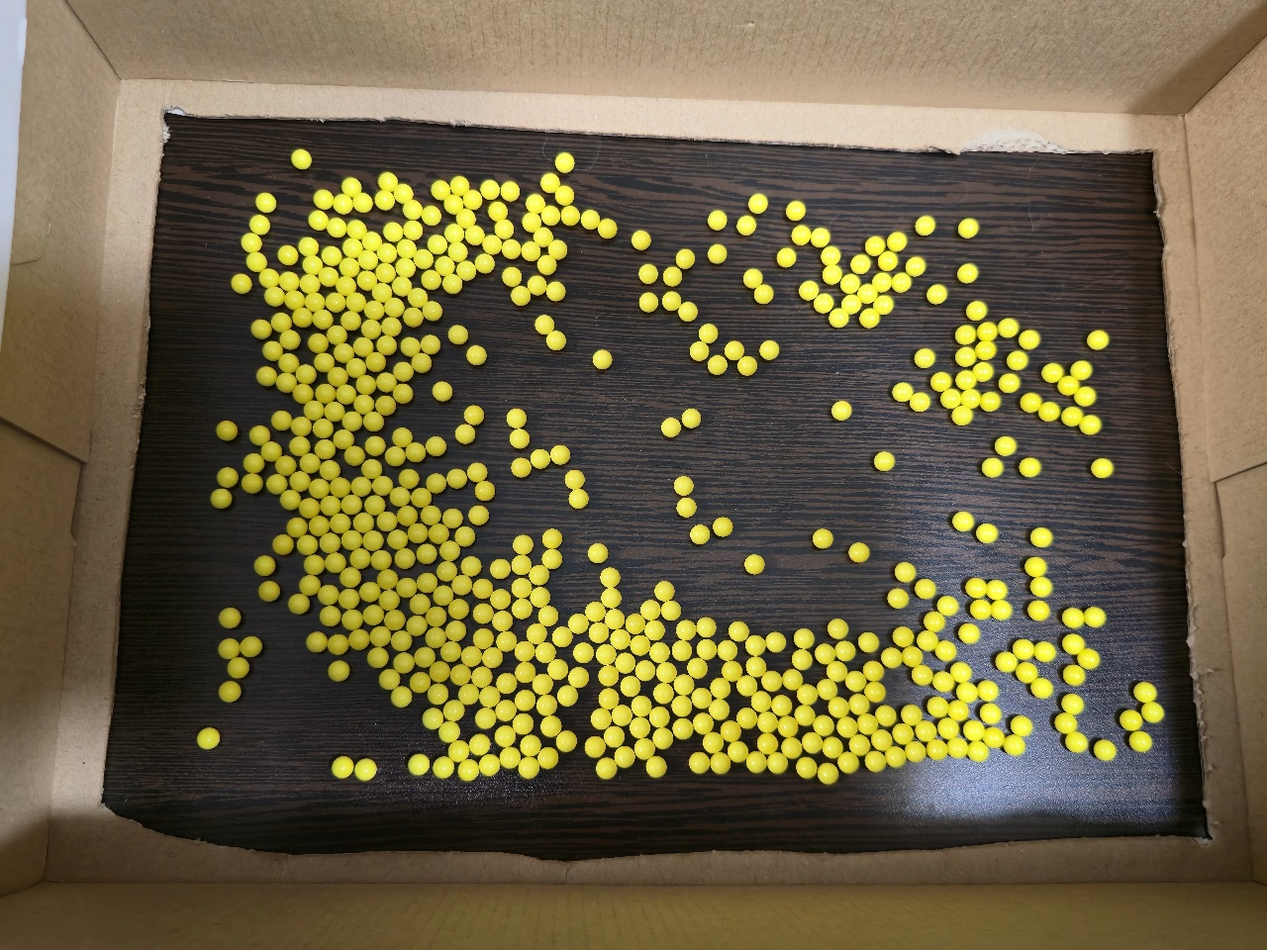yellow_bead: (484, 759, 495, 771), (1001, 657, 1013, 668), (942, 601, 954, 612), (1035, 532, 1048, 542), (981, 528, 994, 538), (463, 765, 474, 776), (414, 759, 425, 770), (1101, 745, 1112, 756), (854, 739, 865, 750), (474, 739, 485, 750), (657, 733, 668, 744), (203, 733, 214, 744), (634, 722, 645, 733), (428, 713, 439, 724), (480, 712, 491, 723), (562, 691, 573, 702), (961, 688, 972, 699), (850, 676, 861, 687), (766, 676, 777, 687), (552, 664, 563, 675), (922, 635, 933, 646), (964, 628, 975, 639), (832, 623, 843, 634), (900, 567, 911, 578), (453, 745, 463, 757), (500, 730, 510, 742), (985, 709, 997, 719), (1067, 699, 1079, 709), (955, 667, 967, 677), (1000, 441, 1012, 451), (1004, 378, 1016, 388), (1023, 334, 1035, 344), (601, 763, 611, 774), (524, 763, 534, 774), (439, 762, 449, 773), (338, 762, 348, 773), (651, 761, 661, 772), (751, 757, 761, 768), (870, 756, 880, 767), (505, 753, 516, 763), (639, 743, 649, 754), (1010, 741, 1021, 751), (609, 731, 619, 742), (968, 725, 979, 735), (545, 721, 555, 732), (1017, 720, 1027, 731), (518, 718, 528, 729), (596, 713, 606, 724), (501, 705, 511, 716), (448, 705, 459, 715), (636, 701, 646, 712), (485, 692, 495, 703), (463, 689, 473, 700), (1038, 683, 1048, 694), (716, 683, 726, 694), (741, 681, 752, 691), (917, 670, 927, 681), (831, 666, 841, 677), (640, 665, 650, 676), (886, 653, 897, 663), (601, 649, 611, 660), (654, 647, 664, 658), (578, 647, 588, 658), (540, 647, 550, 658), (941, 645, 951, 656), (750, 640, 760, 651), (863, 637, 874, 647), (557, 631, 567, 642), (594, 627, 604, 638), (1067, 613, 1078, 623), (517, 604, 528, 614), (606, 592, 616, 603), (1037, 582, 1047, 593), (957, 411, 968, 421), (915, 397, 926, 407), (1012, 355, 1023, 365), (971, 306, 982, 316), (878, 300, 889, 310), (931, 289, 942, 299), (962, 268, 973, 278), (855, 259, 866, 269), (254, 220, 265, 230), (753, 198, 763, 209), (984, 685, 993, 697), (957, 517, 969, 526), (1097, 463, 1109, 472), (987, 463, 999, 472), (1092, 335, 1104, 344), (620, 752, 630, 762), (444, 727, 454, 737), (881, 711, 891, 721), (906, 710, 916, 720), (541, 701, 551, 711), (520, 696, 530, 706), (604, 694, 614, 704), (802, 690, 812, 700), (658, 689, 668, 699), (679, 680, 689, 690), (938, 677, 948, 687), (604, 671, 614, 681), (621, 658, 631, 668), (487, 653, 497, 663), (466, 651, 476, 661), (1018, 644, 1028, 654), (702, 644, 712, 654), (1070, 639, 1080, 649), (771, 637, 781, 647), (616, 634, 626, 644), (799, 633, 809, 643), (733, 626, 743, 636), (681, 625, 691, 635), (649, 625, 659, 635), (412, 620, 422, 630), (573, 618, 583, 628), (590, 607, 600, 617), (666, 606, 676, 616), (893, 594, 903, 604), (921, 584, 931, 594), (517, 583, 527, 593), (547, 554, 557, 564), (593, 548, 603, 558), (695, 529, 705, 539), (836, 406, 846, 416), (920, 353, 930, 363), (960, 351, 970, 361), (397, 281, 407, 291), (845, 279, 855, 289), (427, 275, 437, 285), (911, 261, 921, 271), (308, 259, 318, 269), (251, 257, 261, 267), (419, 254, 429, 264), (449, 229, 459, 239), (388, 227, 398, 237), (261, 198, 271, 208), (485, 185, 495, 195), (297, 154, 307, 164), (823, 768, 832, 779), (526, 740, 535, 751), (561, 736, 570, 747), (877, 734, 886, 745), (942, 723, 953, 732), (678, 723, 687, 734), (714, 705, 725, 714), (855, 699, 864, 710), (756, 696, 765, 707), (697, 693, 706, 704), (433, 689, 442, 700), (823, 684, 832, 695), (626, 681, 635, 692), (537, 679, 546, 690), (385, 674, 394, 685), (573, 672, 582, 683), (477, 672, 486, 683), (397, 635, 406, 646), (532, 628, 541, 639), (450, 625, 459, 636), (606, 573, 615, 584), (1024, 463, 1035, 472), (879, 457, 890, 466), (898, 388, 909, 397), (1003, 324, 1014, 333), (826, 250, 835, 261), (892, 237, 903, 246), (963, 224, 974, 233), (408, 204, 417, 215), (399, 189, 408, 200), (912, 746, 920, 758), (1139, 688, 1151, 696), (891, 752, 900, 762), (974, 747, 983, 757), (807, 738, 816, 748), (921, 727, 931, 736), (819, 720, 828, 730), (833, 703, 843, 712), (932, 702, 941, 712), (397, 692, 406, 702), (502, 679, 511, 689), (399, 658, 408, 668), (841, 646, 850, 656), (520, 646, 529, 656), (502, 636, 511, 646), (375, 631, 384, 641), (702, 622, 711, 632), (498, 616, 507, 626), (610, 615, 620, 624), (1092, 612, 1101, 622), (478, 609, 488, 618), (999, 606, 1008, 616), (994, 585, 1003, 595), (457, 580, 466, 590), (466, 561, 475, 571), (854, 547, 863, 557), (518, 540, 528, 549), (818, 534, 828, 543), (460, 531, 470, 540), (447, 514, 457, 523), (377, 481, 387, 490), (472, 468, 482, 477), (945, 394, 955, 403), (1077, 366, 1087, 375), (742, 361, 752, 370), (713, 360, 723, 369), (285, 335, 295, 344), (960, 330, 970, 339), (540, 320, 549, 330), (865, 314, 875, 323), (834, 314, 844, 323), (846, 300, 856, 309), (819, 298, 828, 308), (413, 293, 423, 302), (863, 289, 872, 299), (377, 288, 387, 297), (804, 286, 814, 295), (447, 279, 456, 289), (898, 277, 907, 287), (877, 277, 886, 287), (748, 273, 757, 283), (828, 269, 837, 279), (381, 268, 391, 277), (461, 266, 471, 275), (480, 258, 489, 268), (363, 255, 373, 264), (782, 252, 791, 262), (382, 248, 392, 257), (453, 246, 462, 256), (347, 243, 357, 252), (304, 242, 313, 252), (870, 240, 879, 250), (488, 239, 497, 249), (433, 239, 442, 249), (246, 238, 256, 247), (921, 221, 930, 231), (713, 215, 722, 225), (461, 214, 470, 224), (546, 211, 555, 221), (427, 211, 436, 221), (791, 206, 801, 215), (358, 198, 367, 208), (380, 196, 390, 205), (560, 190, 569, 200), (506, 186, 515, 196), (383, 177, 393, 186), (560, 157, 569, 167), (842, 757, 850, 768), (954, 742, 962, 753), (1075, 737, 1083, 748), (677, 701, 685, 712), (661, 667, 669, 678), (797, 654, 805, 665), (536, 592, 544, 603), (528, 217, 536, 228), (1061, 720, 1073, 727), (420, 652, 429, 661), (431, 632, 440, 641), (543, 612, 552, 621), (415, 599, 424, 608), (344, 594, 353, 603), (324, 590, 333, 599), (660, 587, 669, 596), (442, 566, 451, 575), (749, 560, 758, 569), (474, 511, 483, 520), (426, 511, 435, 520), (682, 503, 691, 512), (574, 494, 583, 503), (357, 482, 366, 491), (679, 481, 688, 490), (570, 475, 579, 484), (517, 463, 526, 472), (536, 454, 545, 463), (555, 450, 564, 459), (515, 434, 524, 443), (460, 429, 469, 438), (687, 414, 696, 423), (512, 414, 521, 423), (469, 411, 478, 420), (417, 358, 426, 367), (598, 355, 607, 364), (472, 351, 481, 360), (695, 346, 704, 355), (765, 345, 774, 354), (406, 342, 415, 351), (551, 335, 560, 344), (428, 307, 437, 316), (644, 298, 653, 307), (667, 297, 676, 306), (517, 291, 526, 300), (759, 290, 768, 299), (551, 287, 560, 296), (362, 276, 371, 285), (668, 272, 677, 281), (324, 272, 333, 281), (644, 269, 653, 278), (401, 263, 410, 272), (440, 261, 449, 270), (542, 260, 551, 269), (713, 249, 722, 258), (527, 246, 536, 255), (553, 245, 562, 254), (507, 244, 516, 253), (817, 233, 826, 242), (797, 230, 806, 239), (409, 226, 418, 235), (500, 225, 509, 234), (603, 224, 612, 233), (742, 221, 751, 230), (586, 215, 595, 224), (468, 195, 477, 204), (319, 195, 328, 204), (455, 181, 464, 190), (545, 178, 554, 187), (773, 758, 781, 768), (694, 758, 702, 768), (692, 663, 700, 673), (373, 652, 381, 662), (821, 649, 829, 659), (495, 595, 503, 605), (535, 570, 543, 580), (495, 565, 505, 573), (517, 560, 525, 570), (400, 553, 410, 561), (444, 546, 454, 554), (368, 536, 378, 544), (961, 375, 971, 383), (358, 342, 368, 350), (305, 279, 315, 287), (327, 251, 337, 259), (538, 233, 548, 241), (333, 223, 341, 233), (732, 746, 739, 757), (590, 741, 597, 752), (447, 646, 454, 657), (1047, 368, 1058, 375), (842, 723, 850, 732), (788, 675, 796, 684), (478, 584, 486, 593), (718, 522, 726, 531), (382, 517, 391, 525), (395, 492, 404, 500), (452, 474, 461, 482), (367, 464, 376, 472), (431, 442, 440, 450), (438, 387, 446, 396), (399, 367, 408, 375), (730, 346, 738, 355), (426, 340, 435, 348), (704, 329, 713, 337), (276, 318, 285, 326), (684, 307, 692, 316), (270, 292, 278, 301), (533, 281, 541, 290), (285, 277, 293, 286), (264, 274, 273, 282), (508, 272, 516, 281), (681, 254, 689, 263), (402, 244, 411, 252), (367, 237, 376, 245), (636, 236, 645, 244), (470, 231, 479, 239), (352, 225, 361, 233), (566, 211, 574, 220), (449, 200, 457, 209), (347, 182, 356, 190), (802, 763, 809, 773), (708, 738, 715, 748), (763, 717, 770, 727), (777, 701, 784, 711), (370, 501, 380, 508), (979, 367, 989, 374), (351, 363, 361, 370), (366, 325, 376, 332), (310, 298, 320, 305), (532, 199, 539, 209), (437, 185, 444, 195), (360, 764, 371, 770), (698, 718, 704, 729), (455, 670, 463, 678), (295, 599, 303, 607), (439, 591, 447, 599), (286, 495, 294, 503), (282, 378, 290, 386), (284, 358, 292, 366), (390, 303, 398, 311), (331, 298, 339, 306), (883, 256, 891, 264), (800, 711, 807, 720), (620, 711, 627, 720), (1152, 708, 1159, 717), (335, 666, 342, 675), (225, 644, 232, 653), (326, 612, 335, 619), (346, 572, 355, 579), (480, 487, 487, 496), (295, 477, 304, 484), (666, 424, 675, 431), (347, 417, 356, 424), (453, 331, 462, 338), (387, 323, 396, 330), (369, 306, 378, 313), (351, 298, 360, 305), (237, 279, 244, 288), (716, 759, 722, 769), (521, 668, 527, 678), (635, 640, 641, 650), (376, 555, 386, 561), (325, 538, 335, 544), (898, 728, 905, 736), (863, 721, 870, 729), (478, 634, 485, 642), (928, 617, 936, 624), (331, 558, 339, 565), (547, 534, 554, 542), (347, 500, 355, 507), (432, 479, 440, 486), (272, 479, 280, 486), (256, 431, 263, 439), (331, 407, 339, 414), (309, 406, 317, 413), (359, 400, 367, 407), (382, 378, 390, 385), (333, 331, 341, 338), (256, 325, 264, 332), (935, 377, 946, 382), (741, 713, 747, 722), (347, 615, 356, 621), (368, 611, 377, 617), (402, 583, 411, 589), (423, 578, 432, 584), (370, 441, 379, 447), (296, 422, 305, 428), (398, 389, 407, 395), (301, 370, 310, 376), (320, 358, 329, 364), (339, 348, 348, 354), (382, 341, 391, 347), (346, 317, 355, 323), (341, 282, 350, 288), (344, 263, 353, 269), (727, 666, 732, 676), (390, 451, 400, 456), (411, 447, 421, 452), (368, 417, 378, 422), (318, 315, 328, 320), (787, 744, 794, 751), (868, 666, 875, 673), (1041, 646, 1048, 653), (898, 632, 905, 639), (217, 494, 224, 501), (968, 394, 975, 401), (262, 372, 269, 379), (542, 754, 548, 762), (313, 637, 319, 645), (226, 614, 234, 620), (260, 561, 268, 567), (424, 549, 432, 555), (393, 535, 401, 541), (360, 518, 368, 524), (321, 444, 329, 450), (1088, 420, 1096, 426), (268, 346, 276, 352), (234, 663, 243, 668), (246, 642, 255, 647), (433, 612, 440, 618), (385, 595, 392, 601), (306, 581, 313, 587), (303, 540, 310, 546), (349, 535, 355, 542), (327, 501, 333, 508), (1084, 392, 1091, 398), (726, 726, 731, 734), (404, 474, 412, 479), (326, 465, 334, 470), (349, 451, 357, 456), (339, 434, 347, 439), (398, 432, 406, 437), (341, 390, 349, 395), (409, 313, 418, 317), (366, 587, 373, 592), (310, 561, 317, 566), (338, 519, 345, 524), (306, 459, 313, 464), (296, 441, 303, 446), (989, 397, 996, 402), (266, 447, 274, 451), (319, 424, 327, 428), (361, 381, 369, 385), (762, 741, 768, 746), (1138, 739, 1144, 744), (870, 689, 876, 694), (228, 687, 233, 693), (418, 678, 424, 683), (975, 583, 981, 588), (358, 554, 363, 560), (435, 529, 441, 534), (278, 416, 284, 421), (456, 605, 463, 609), (418, 493, 425, 497), (315, 484, 322, 488), (382, 401, 389, 405), (315, 338, 322, 342), (493, 207, 496, 216), (993, 738, 998, 743), (650, 606, 655, 611), (416, 528, 421, 533), (301, 389, 306, 394), (373, 357, 378, 362), (934, 747, 940, 751), (910, 654, 918, 657), (680, 645, 686, 649), (334, 640, 340, 644), (249, 459, 255, 463), (322, 389, 328, 393), (292, 296, 299, 299), (657, 712, 662, 716), (754, 662, 759, 666), (726, 645, 731, 649), (266, 587, 271, 591), (1034, 562, 1038, 567), (406, 511, 410, 516), (248, 479, 253, 483), (336, 372, 341, 376), (987, 327, 991, 332), (391, 616, 397, 619), (224, 473, 230, 476), (830, 749, 834, 753), (957, 707, 961, 711), (1025, 671, 1029, 675), (307, 504, 312, 507), (301, 313, 306, 316), (982, 606, 985, 610), (318, 522, 322, 525), (284, 461, 287, 465), (385, 577, 390, 579), (1048, 410, 1053, 412), (439, 668, 442, 671), (728, 652, 731, 655), (357, 635, 360, 638), (635, 619, 638, 622), (281, 540, 284, 543), (297, 523, 300, 526), (1029, 400, 1032, 403), (337, 483, 341, 485), (756, 669, 758, 672), (1068, 413, 1071, 415), (985, 347, 988, 349), (314, 216, 316, 219), (340, 199, 342, 201), (680, 655, 683, 656), (788, 721, 789, 723), (1039, 610, 1041, 611), (226, 427, 228, 428), (360, 773, 361, 774), (833, 745, 834, 746), (832, 743, 833, 744), (1080, 675, 1081, 676), (650, 614, 651, 615), (651, 612, 652, 613), (286, 259, 287, 260), (283, 256, 284, 257), (283, 252, 284, 253), (317, 225, 318, 226), (314, 222, 315, 223), (339, 206, 340, 207)
